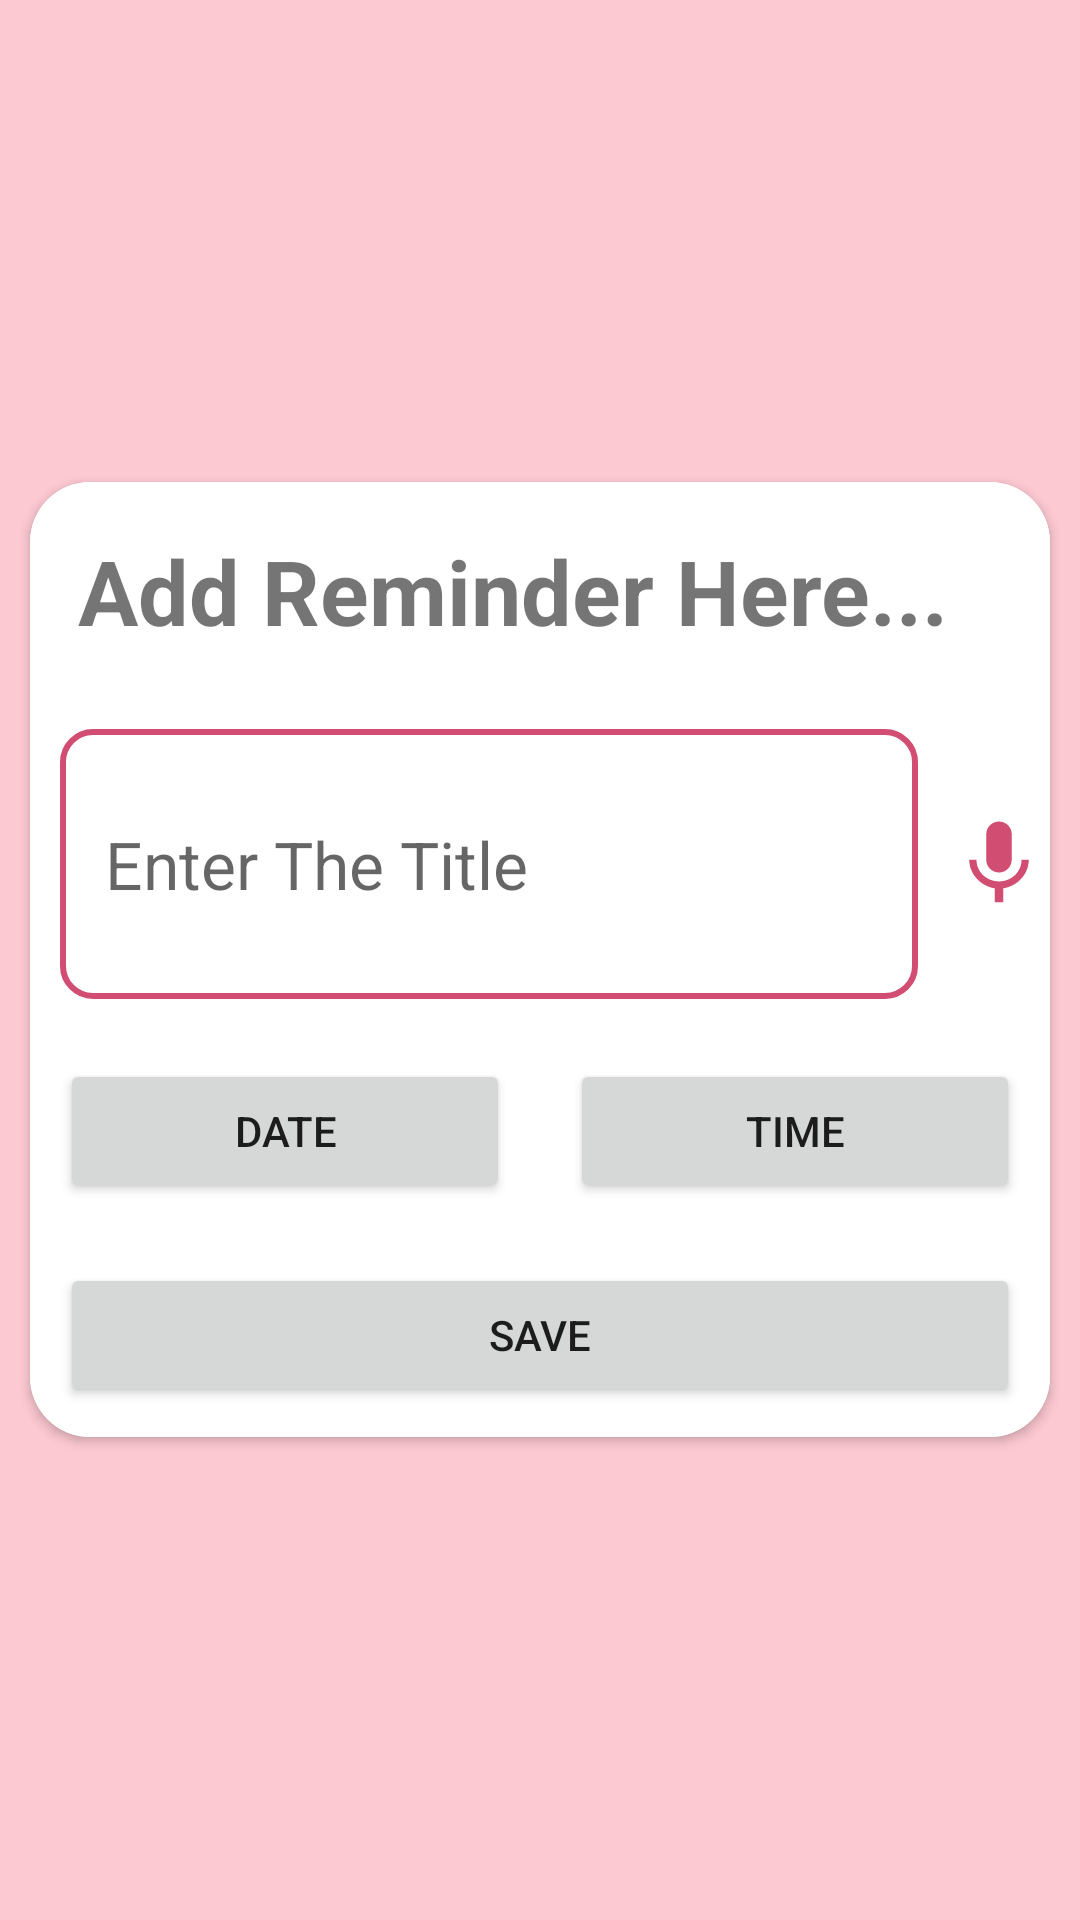

Named icons in this screenshot (1080 x 1920) and their bounding boxes, [x1,y1,x2,y2]:
mic: [969,821,1029,903]
